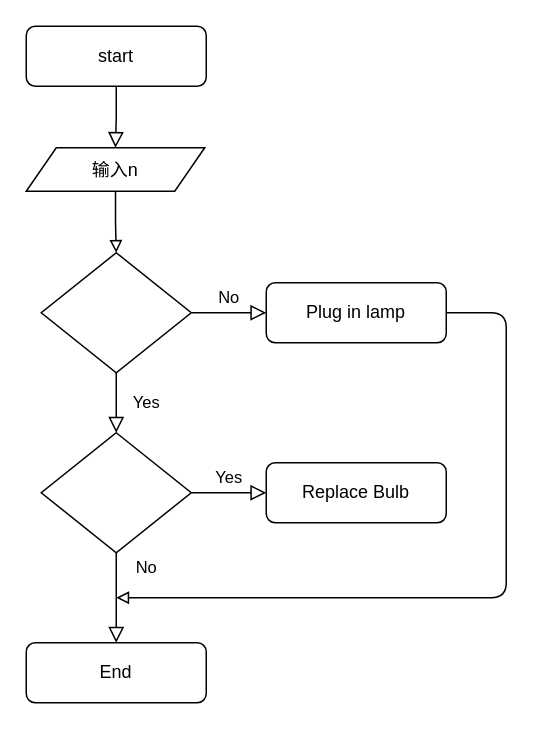
The diagram is 545 pixels wide and 729 high, and some of its shapes have lost their labels. Each missing label, with the centre of its shape:
Bulb burned out?: (115,492)
I是素数: (115,312)
